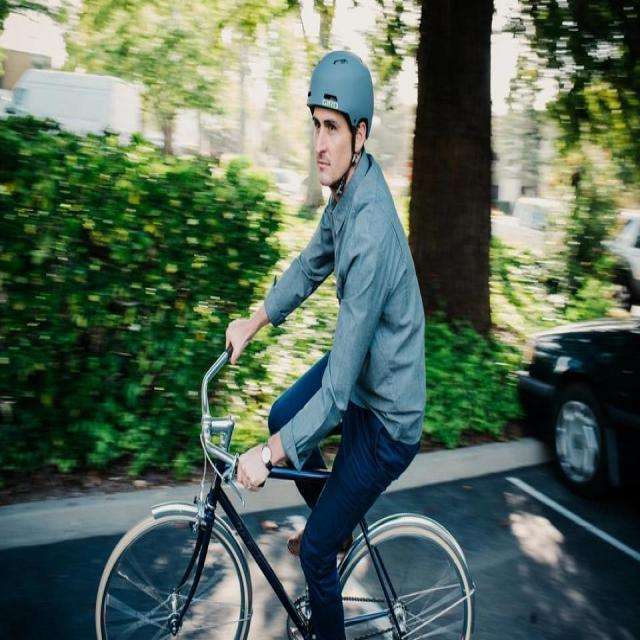helmet: (304, 50, 376, 194)
